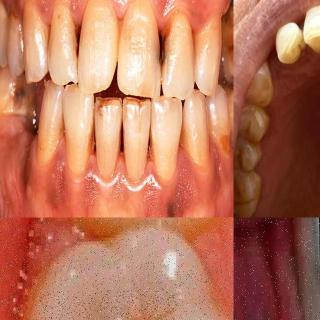Gum Swelling: (164, 146, 216, 195), (143, 0, 225, 30), (38, 137, 74, 186), (131, 153, 163, 196), (73, 156, 103, 195), (103, 155, 132, 195), (108, 0, 134, 20)
cavities: (24, 285, 199, 320), (150, 30, 172, 74), (67, 20, 91, 60), (10, 81, 32, 109), (9, 0, 21, 30)
maligned: (274, 19, 302, 66)
